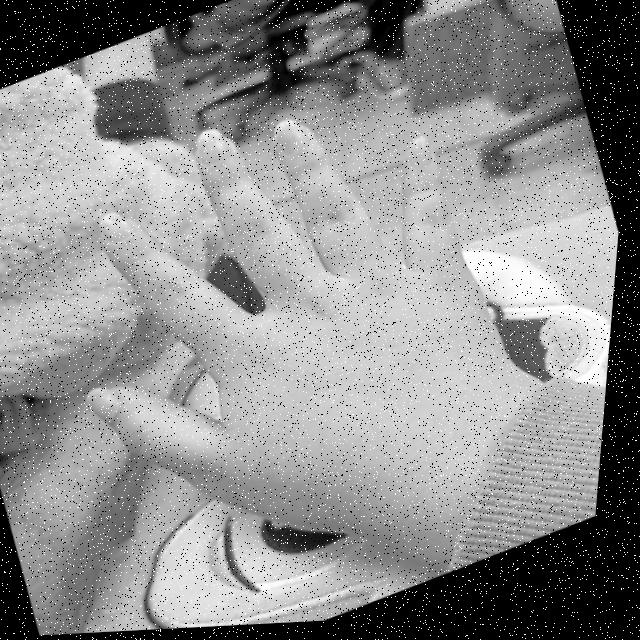hand: (0, 5, 638, 639)
